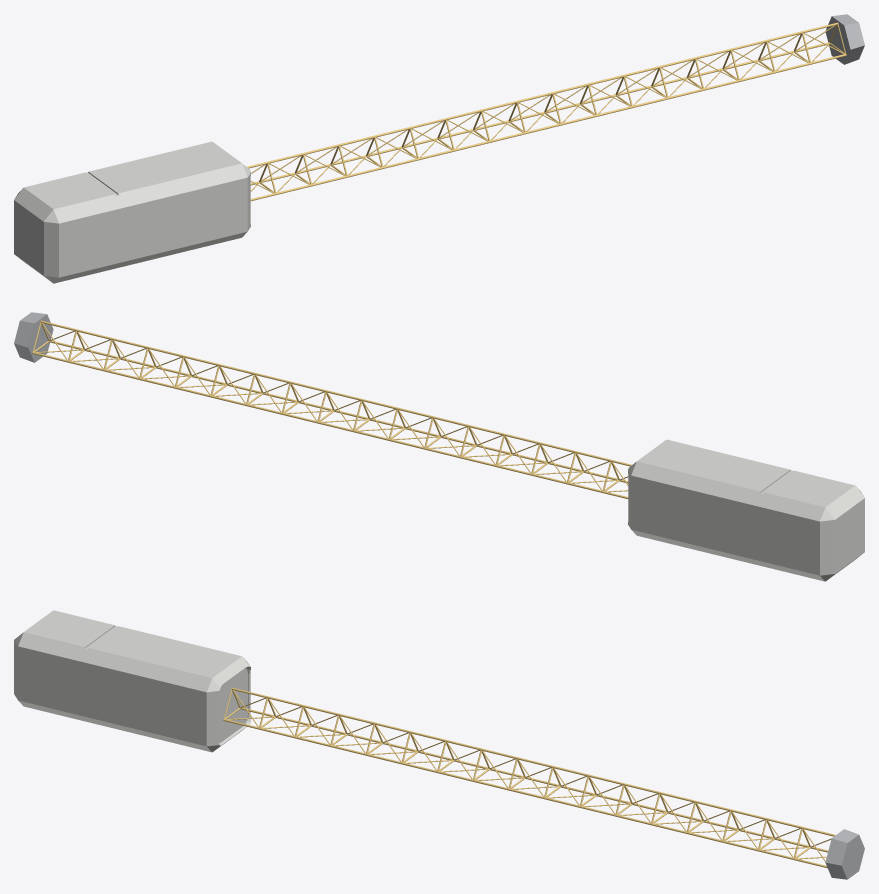
The model's file is ax_gear_12_deployable_boom_s_deployed.glb.
3 renders of one model, top to bottom at view 1: azimuth 30°, elevation 25°; view 2: azimuth 150°, elevation 25°; view 3: azimuth 330°, elevation 25°, orthographic.
Parts seen in each view (by area): view 1: boom_canister, boom_lattice, boom_tip; view 2: boom_canister, boom_lattice, boom_tip; view 3: boom_canister, boom_lattice, boom_tip.
Boxes of the visible parts, <box> form: boom_canister: <box>14,141,250,283</box>; boom_lattice: <box>247,22,846,201</box>; boom_tip: <box>825,14,864,64</box>; boom_canister: <box>628,439,864,581</box>; boom_lattice: <box>32,320,631,499</box>; boom_tip: <box>14,312,53,362</box>; boom_canister: <box>14,610,250,752</box>; boom_lattice: <box>223,687,835,868</box>; boom_tip: <box>825,829,864,879</box>.
Size of the model in its own units: 4.08 by 0.352 by 0.352.
